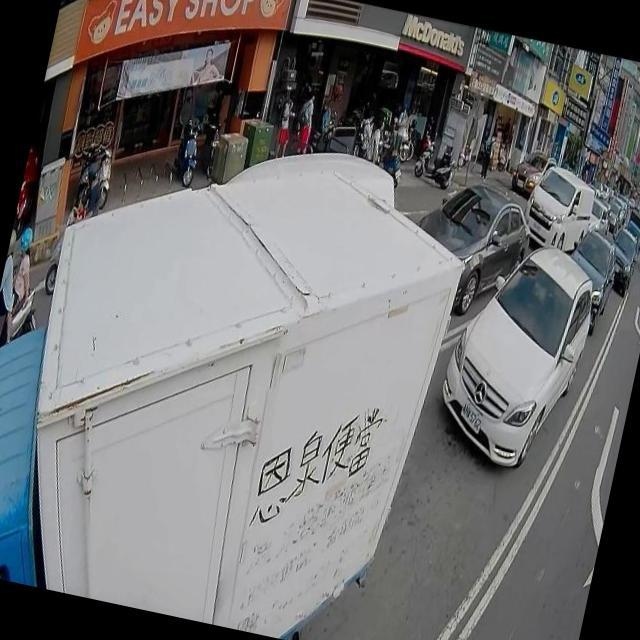person: (0, 223, 46, 347), (0, 226, 28, 354), (73, 150, 109, 222), (290, 86, 321, 156), (273, 92, 298, 160), (361, 114, 388, 164), (390, 106, 412, 160), (352, 114, 374, 160), (478, 130, 496, 180), (298, 75, 316, 106)
